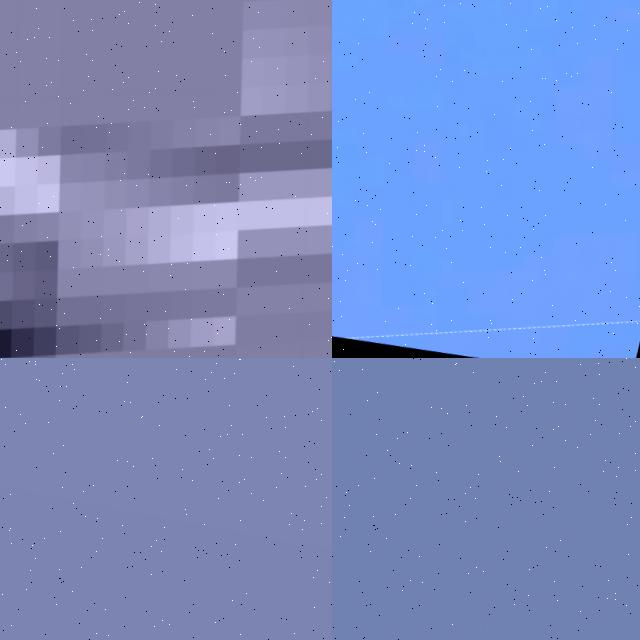0: (0, 0, 332, 358)
drone: (332, 0, 640, 358)
